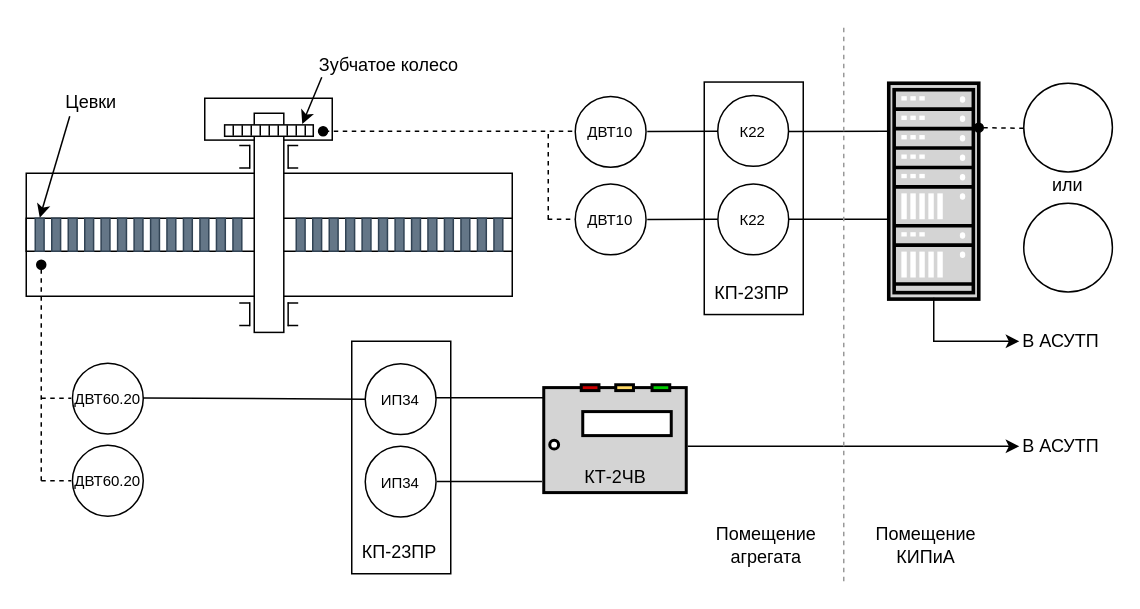
The diagram is 1140 pixels wide and 609 high, and some of its shapes have lost their labels. Here are the shapes that lost their labels. From the top down, the centre of each, then its label:
pixel 1067 127: МК22
pixel 1067 247: ВМ61
